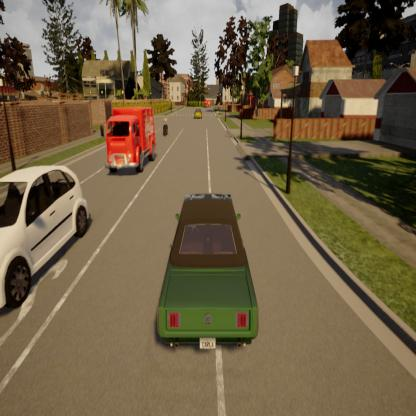Cars: (141, 188, 263, 366), (0, 158, 94, 315), (104, 102, 158, 179), (193, 106, 204, 119)
